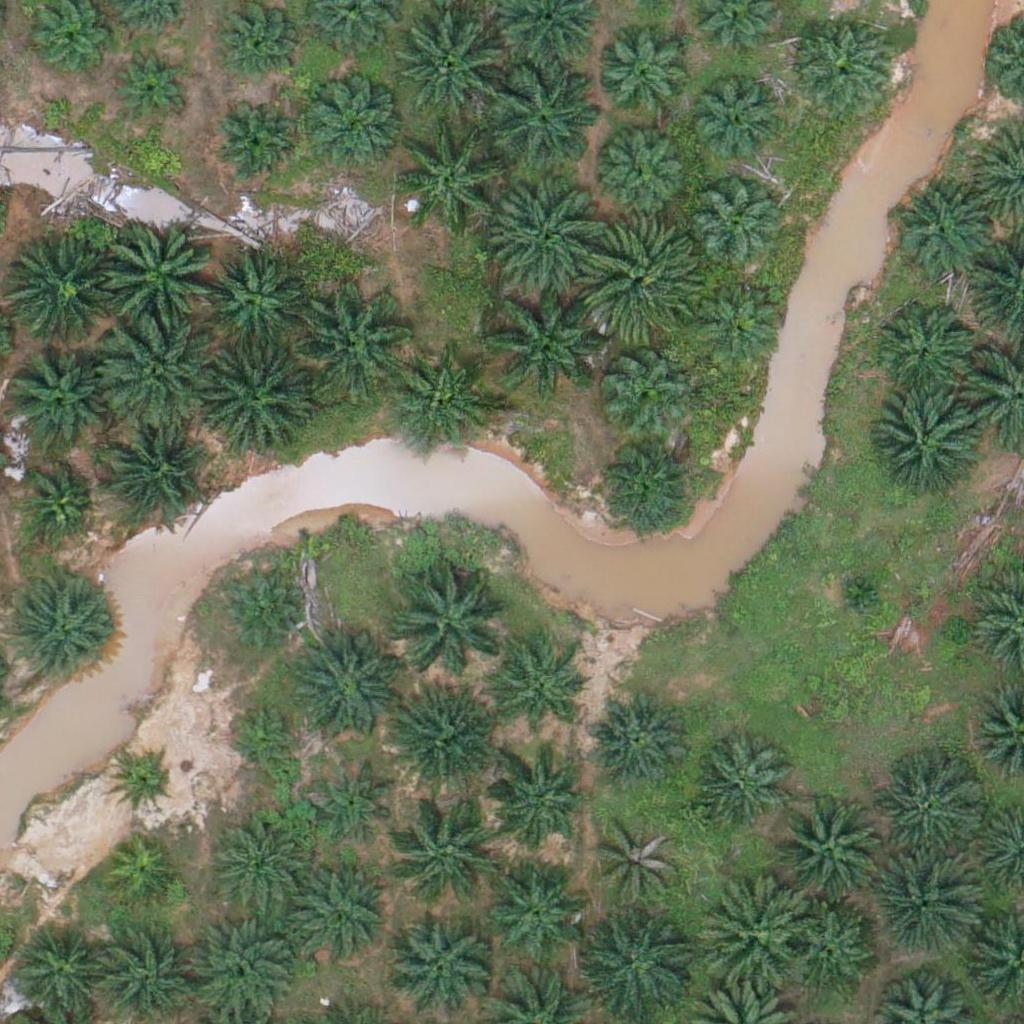Kelapa_Sawit: (196, 342, 309, 456), (867, 391, 980, 504), (868, 849, 981, 962), (393, 560, 506, 673), (287, 633, 400, 746), (584, 221, 697, 334), (489, 55, 602, 168), (3, 238, 116, 351), (392, 791, 504, 905), (496, 182, 608, 296), (773, 793, 885, 906), (696, 876, 808, 989), (581, 908, 693, 1021), (485, 284, 597, 397), (383, 688, 495, 801), (296, 284, 408, 397), (104, 317, 216, 430), (397, 121, 509, 234), (397, 12, 509, 125), (103, 221, 215, 334), (874, 301, 974, 402), (689, 734, 789, 835), (485, 754, 585, 855), (387, 916, 487, 1017), (4, 347, 104, 448), (287, 867, 387, 968), (793, 13, 893, 114), (685, 74, 785, 175), (203, 248, 303, 349), (893, 181, 993, 282), (877, 764, 977, 864), (595, 436, 695, 536), (586, 689, 686, 789), (485, 858, 585, 958), (392, 357, 492, 457), (102, 422, 202, 522), (12, 582, 112, 682), (210, 815, 310, 915), (595, 120, 695, 220), (599, 24, 699, 124), (301, 73, 401, 173), (785, 907, 873, 995), (599, 343, 687, 431), (310, 761, 398, 849), (215, 569, 303, 657), (696, 278, 784, 366), (213, 102, 301, 190), (595, 820, 682, 908), (497, 650, 584, 738), (694, 186, 781, 274), (114, 45, 189, 121), (19, 464, 94, 539), (227, 700, 302, 775), (103, 838, 178, 913), (112, 751, 175, 814), (832, 566, 882, 617)
